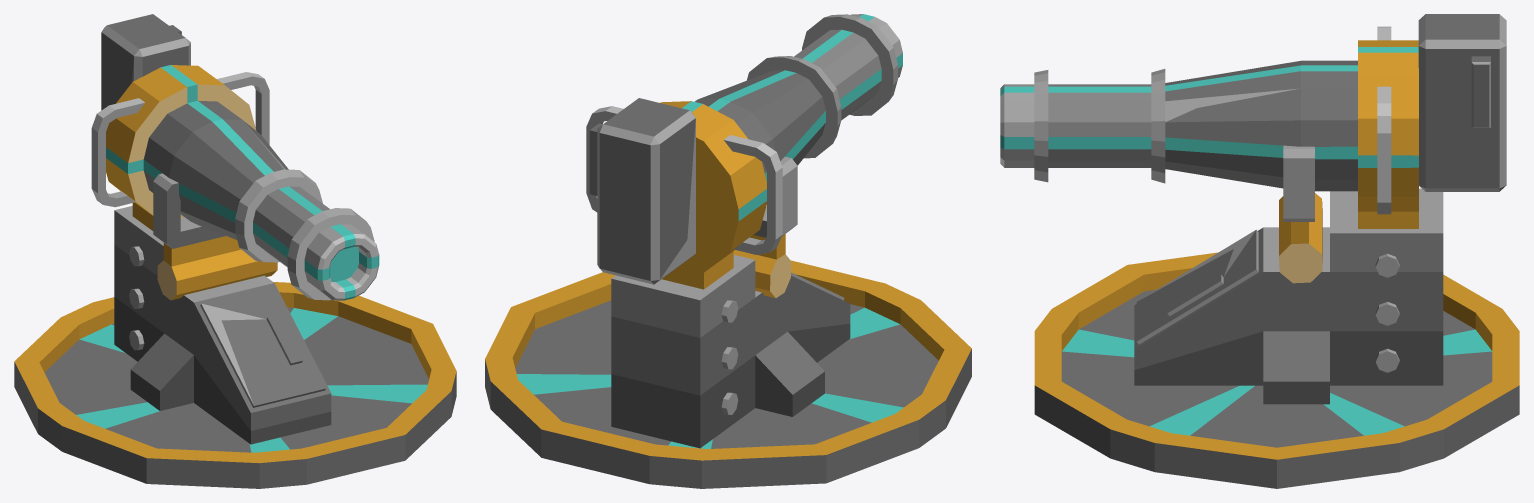
File: tower_laser_yellow_1.fbx
3 views of the same model, side by side, from view 1: azimuth 30°, elevation 25°; view 2: azimuth 150°, elevation 25°; view 3: azimuth 270°, elevation 25° (orthographic). The views are drawn at different scales.
Visible parts, largest first — view 1: top_laser_yellow_1, tower_laser_yellow_1; view 2: top_laser_yellow_1, tower_laser_yellow_1; view 3: top_laser_yellow_1, tower_laser_yellow_1.
Part boxes in pixels (x1,y1,x2,y2): top_laser_yellow_1: (91, 14, 379, 444); tower_laser_yellow_1: (14, 282, 456, 488); top_laser_yellow_1: (586, 14, 902, 448); tower_laser_yellow_1: (485, 260, 971, 488); top_laser_yellow_1: (1000, 14, 1506, 404); tower_laser_yellow_1: (1034, 252, 1519, 488).
Bounding box in the file's own units: 142 × 110 × 148.
